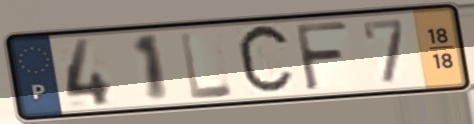1: (131, 31, 171, 105)
4: (61, 35, 118, 109)
7: (358, 16, 408, 87)
C: (234, 20, 298, 100)
F: (292, 20, 352, 94)
L: (177, 29, 238, 102)
